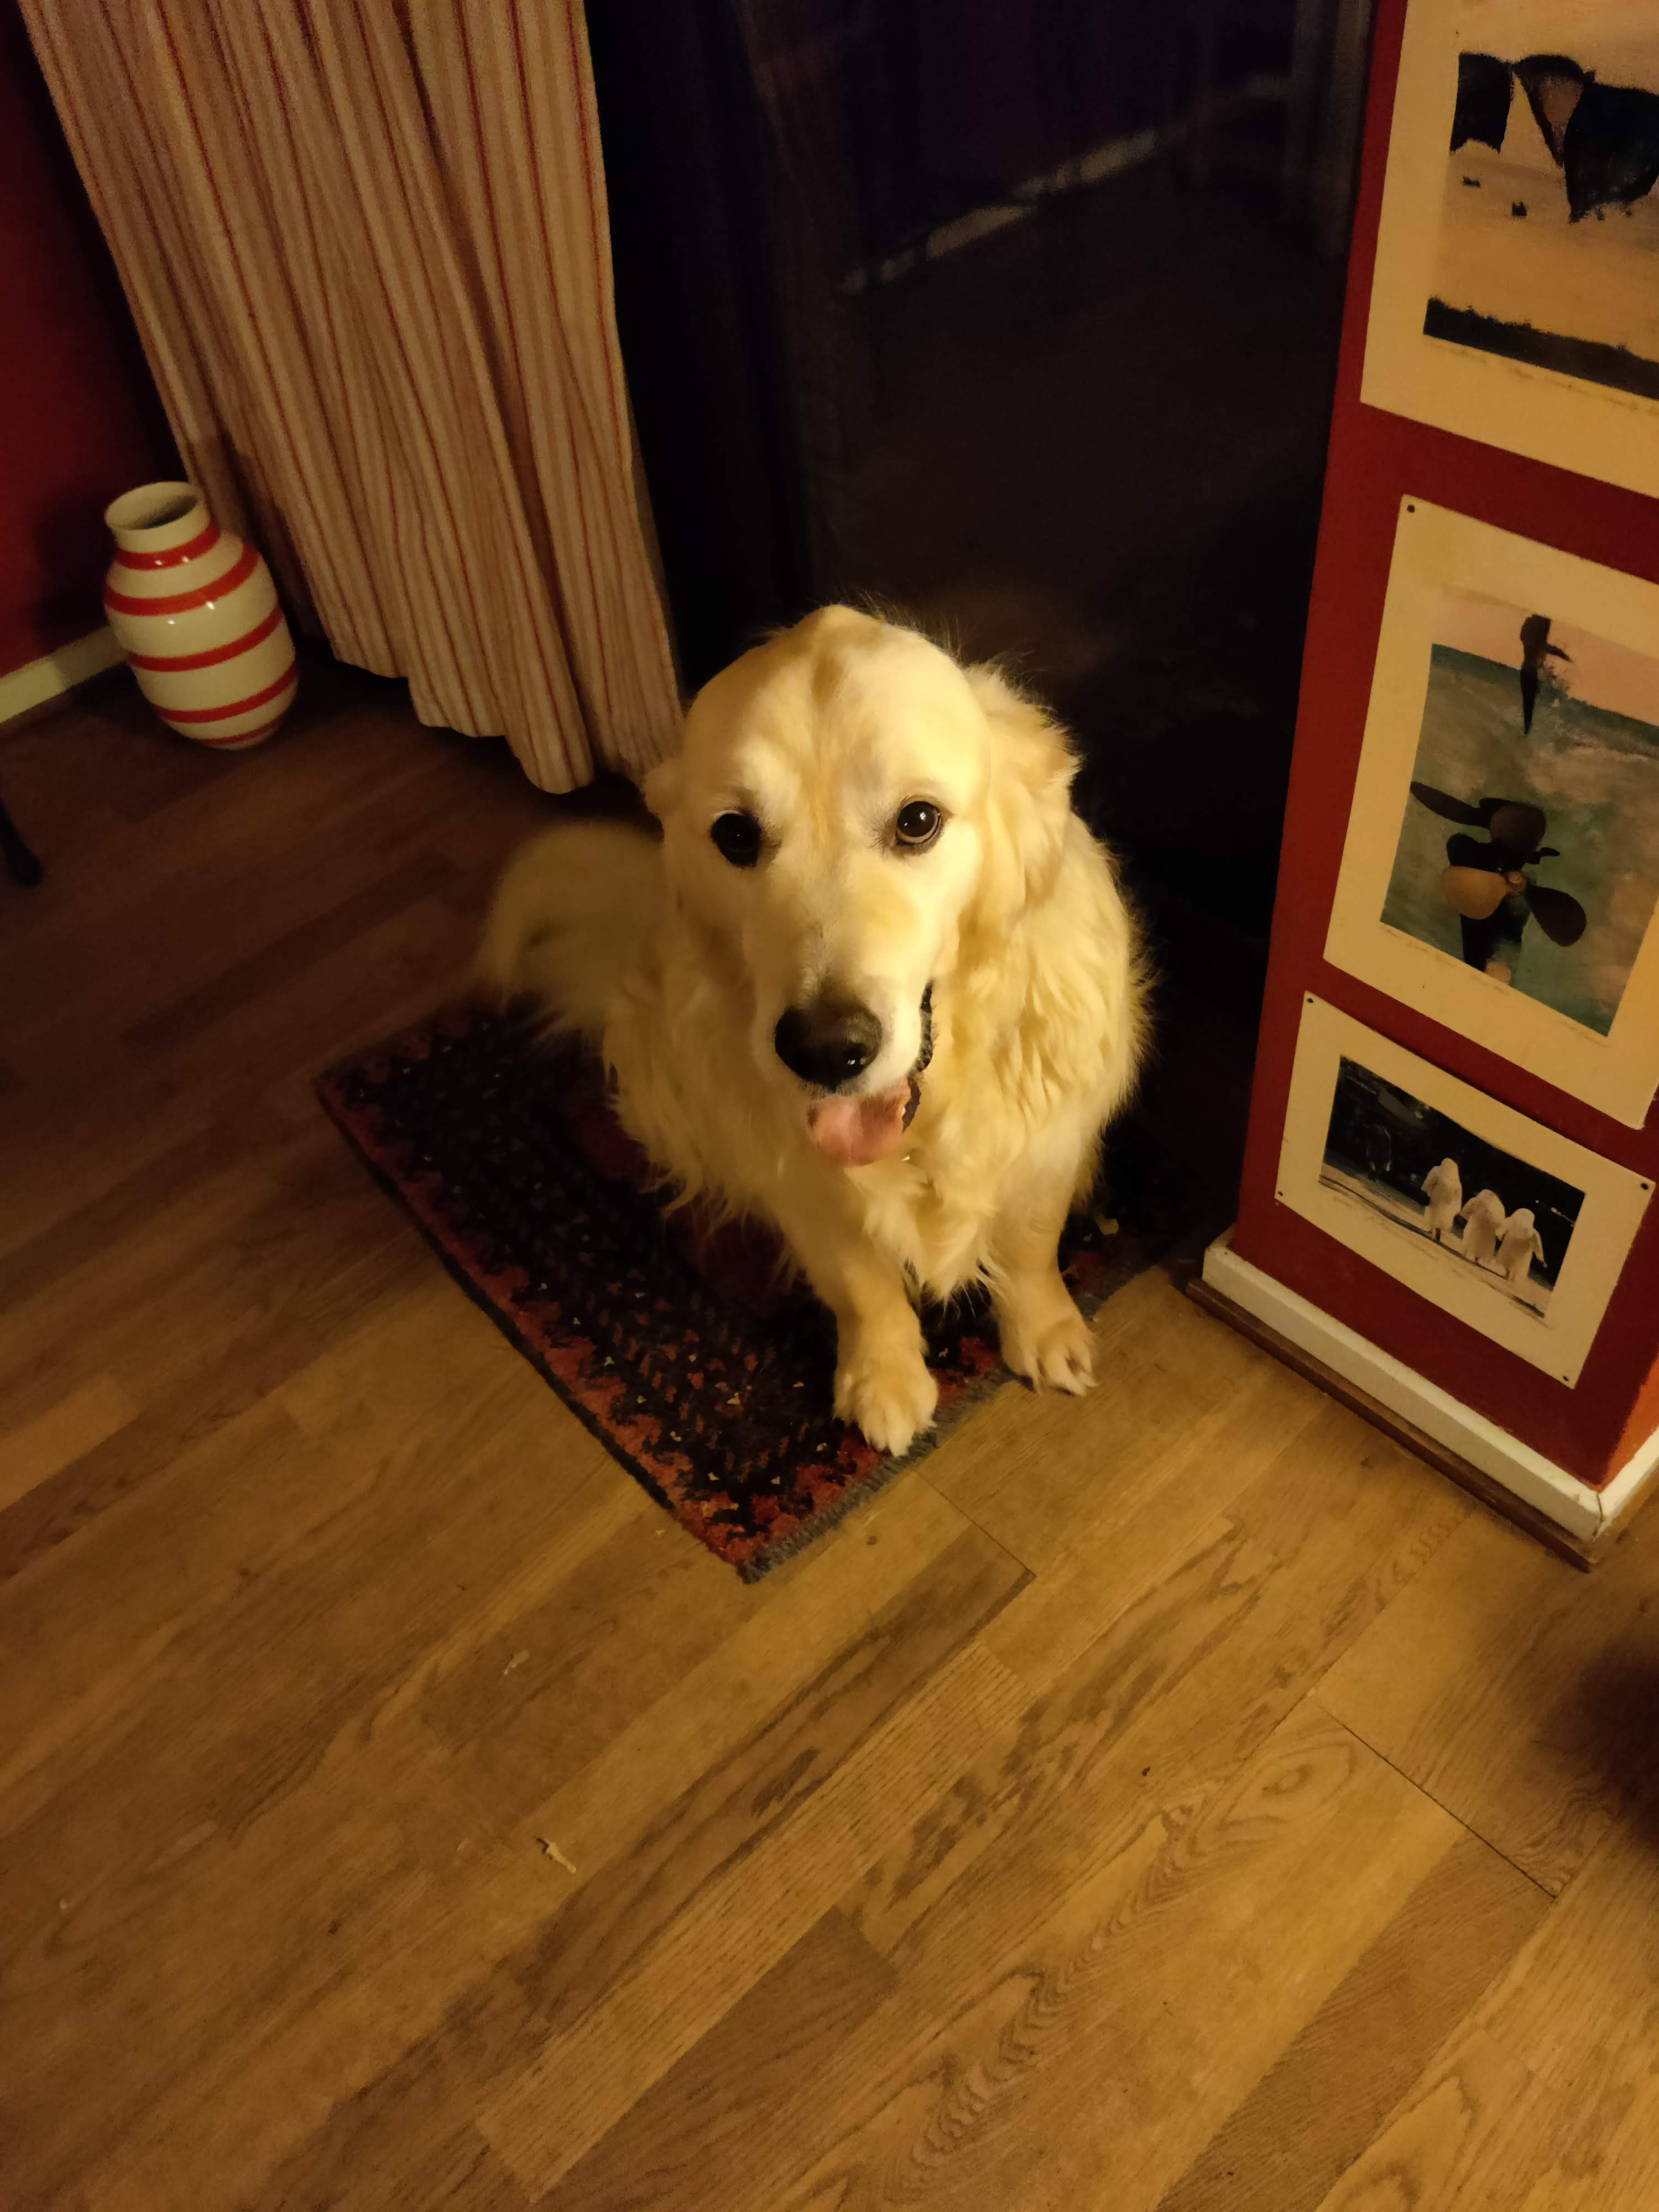Dog: (474, 594, 1169, 1453)
